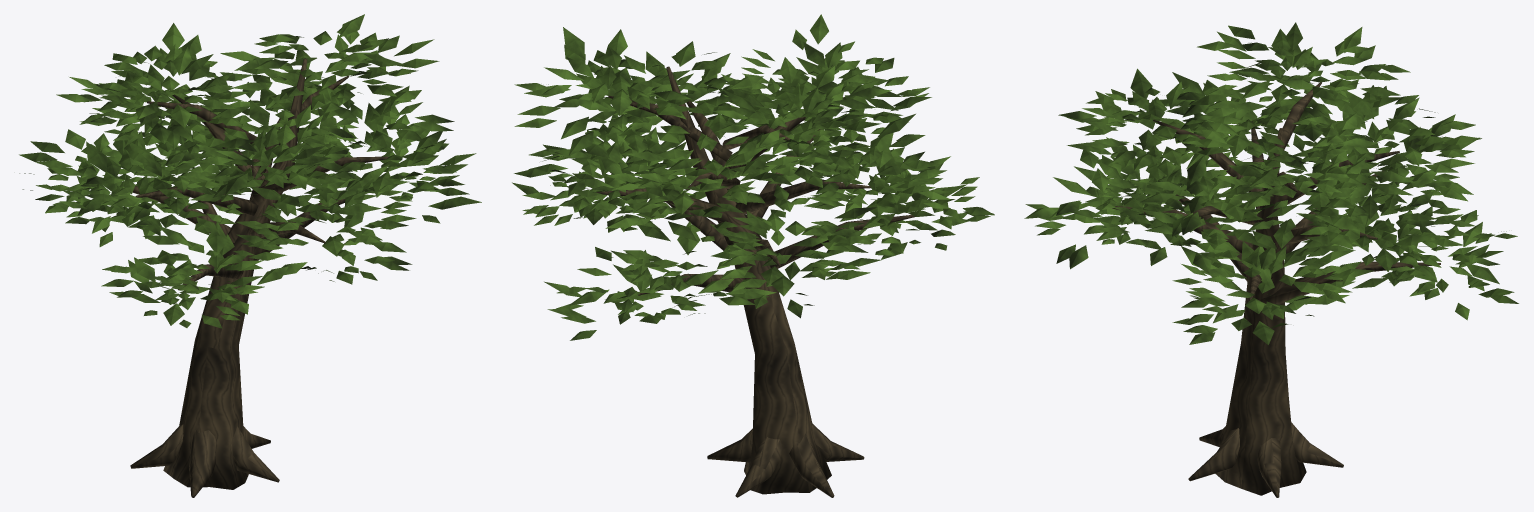
The model's file is tree2.glb.
3 views of the same model, side by side, from view 1: azimuth 30°, elevation 25°; view 2: azimuth 150°, elevation 25°; view 3: azimuth 270°, elevation 25° (orthographic). The views are drawn at different scales.
Parts seen in each view (by area): view 1: tree2; view 2: tree2; view 3: tree2.
Part boxes in pixels (<box>): tree2: <box>19,14,481,497</box>; tree2: <box>512,14,994,497</box>; tree2: <box>1024,22,1518,497</box>.
Size of the model in its own units: 7.32 by 6.85 by 7.48.
2 materials, 2 textured.
